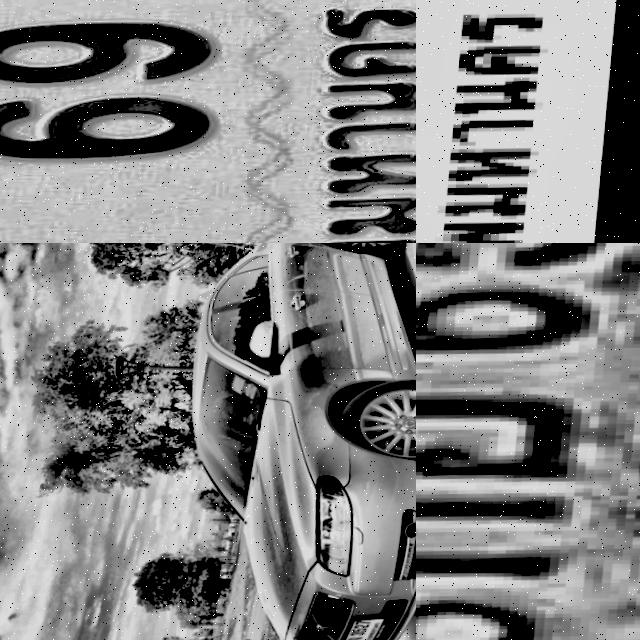license-plate: (0, 0, 416, 243), (416, 243, 640, 640), (416, 0, 640, 243), (343, 616, 399, 640)
